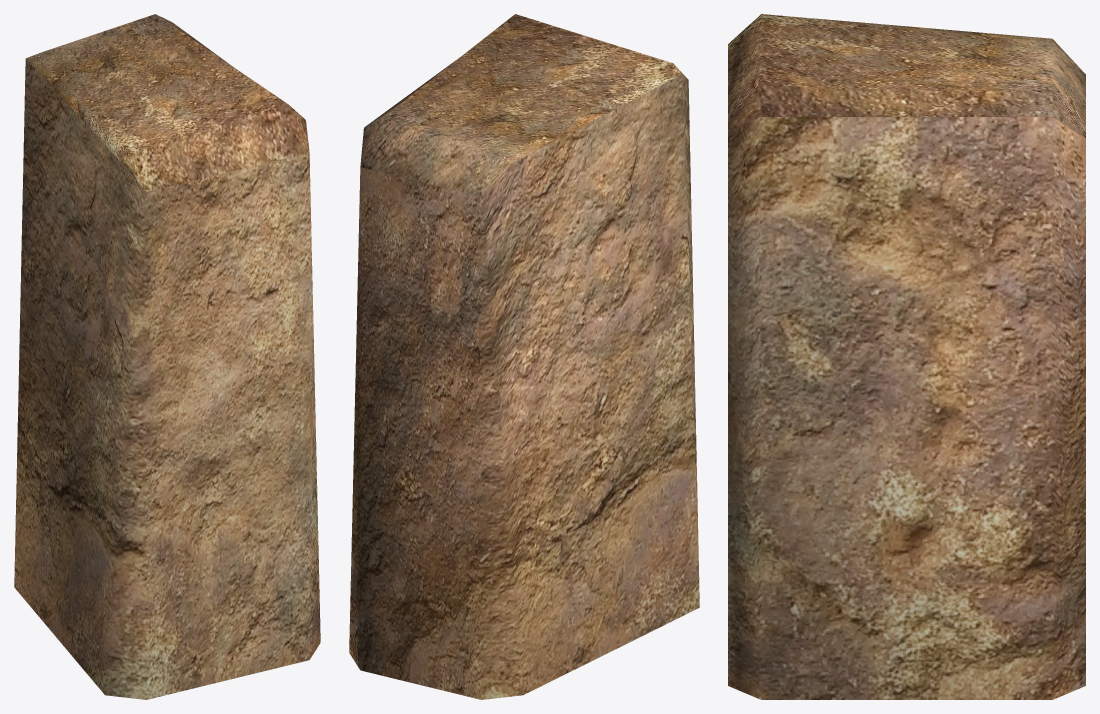
Rendered from stone_cubic_weathered_03.dae.
The picture shows the model from 3 angles, left to right: view 1: azimuth 30°, elevation 25°; view 2: azimuth 150°, elevation 25°; view 3: azimuth 270°, elevation 25°; orthographic projection. The views are drawn at different scales.
Parts seen in each view (by area): view 1: Cube_006; view 2: Cube_006; view 3: Cube_006.
Boxes of the visible parts, x1,y1,x2,y2 form: Cube_006: (14, 14, 320, 699); Cube_006: (349, 14, 699, 699); Cube_006: (728, 14, 1085, 699).
Size of the model in its own units: 4.38 by 5.76 by 10.59.
